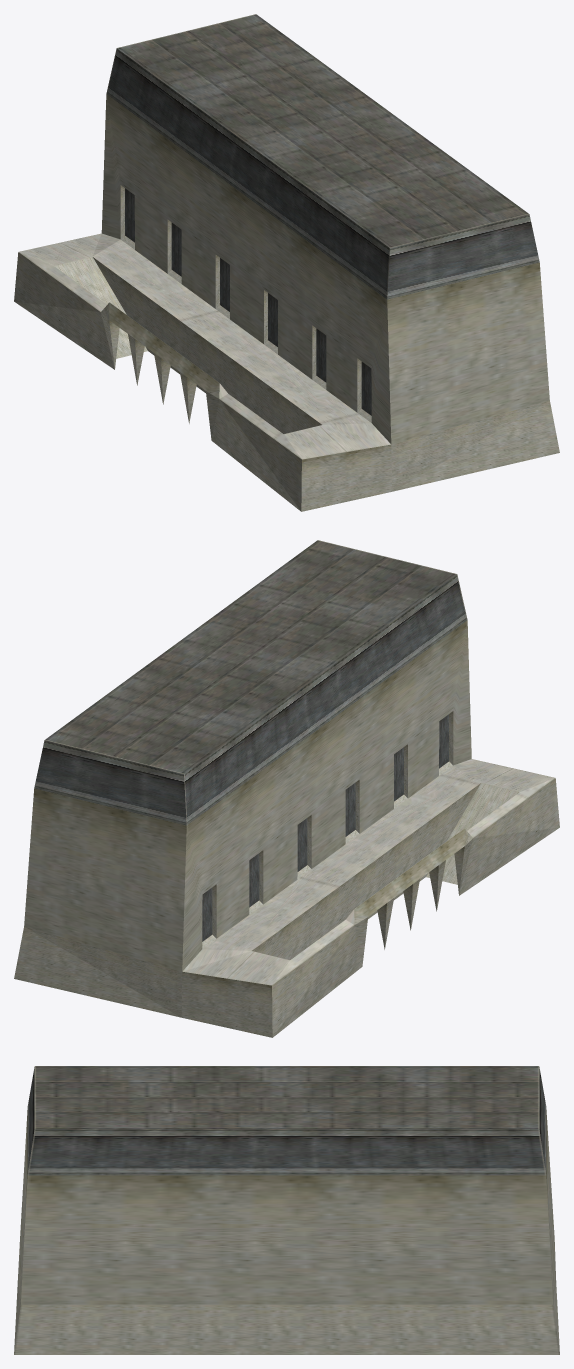
Rendered from thm_corl_imprv_slum_16x32_s02_l4.fbx.
3 views of the same model, one above another, from view 1: azimuth 30°, elevation 25°; view 2: azimuth 150°, elevation 25°; view 3: azimuth 270°, elevation 25° (orthographic). The views are drawn at different scales.
Visible parts, largest first — view 1: mesh_node; view 2: mesh_node; view 3: mesh_node.
Part boxes in pixels (x1,y1,x2,y2): mesh_node: (14,14,559,511); mesh_node: (14,540,559,1037); mesh_node: (14,1066,559,1354).
Size of the model in its own units: 15.86 by 14 by 31.9.
